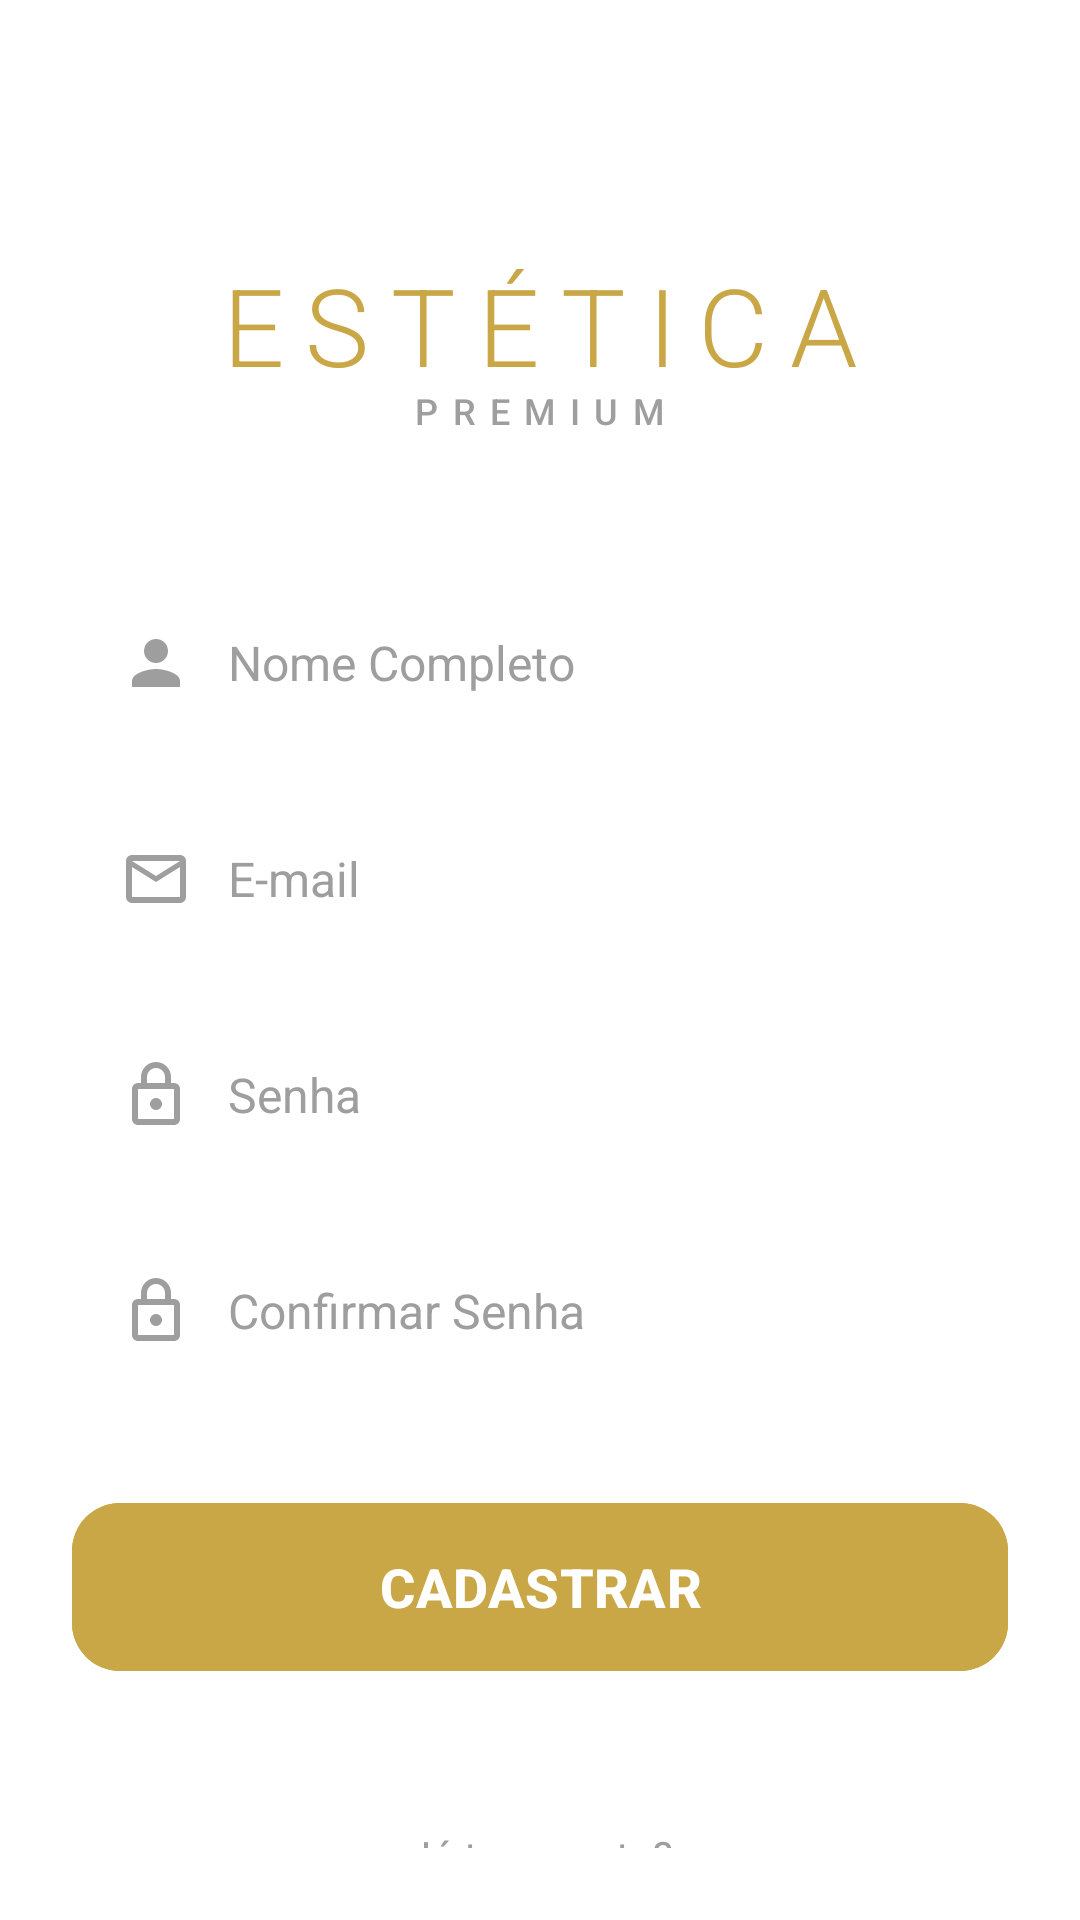

Icon bounding boxes for this 1080px x 1920px phone screenshot, format Rect(x1, y1, x2, y2):
icon password: Rect(132, 1062, 180, 1125), Rect(132, 1278, 180, 1341)
icon person: Rect(132, 639, 180, 687)
